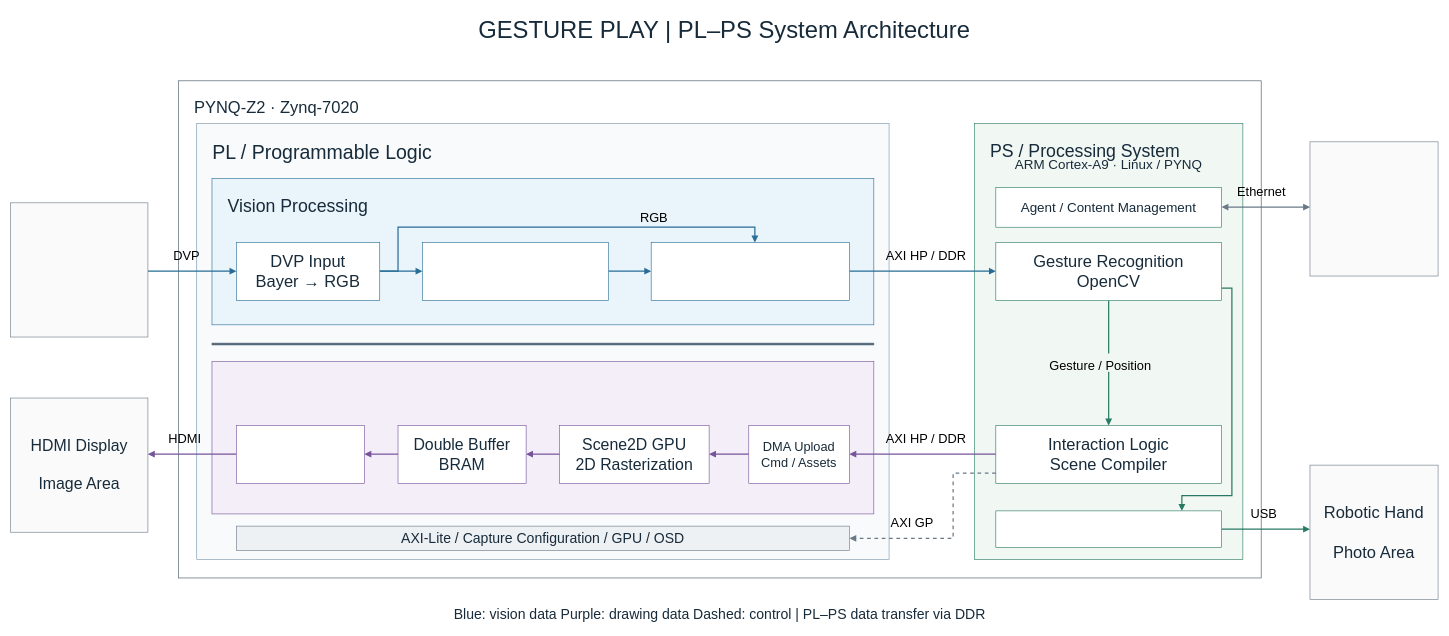
Some shapes in this 1449 by 636 pixel diagram are drawn without their labels. The box of each missing label's shape, as (x1, y1, x2, y2) in pixels:
Frame Capture / DMA RGB / Dual Masks: (651, 242, 849, 300)
Hand Control: (995, 510, 1222, 547)
OSD Overlay HDMI Output: (236, 425, 364, 483)
OV5640 Photo Area: (10, 202, 148, 337)
Rendering GPU: (211, 361, 874, 514)
Skin Segmentation Filter / Dual Masks: (422, 242, 608, 300)
Studio Host Screenshot: (1309, 141, 1438, 276)
